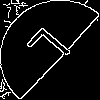L: (25, 25, 81, 77)
